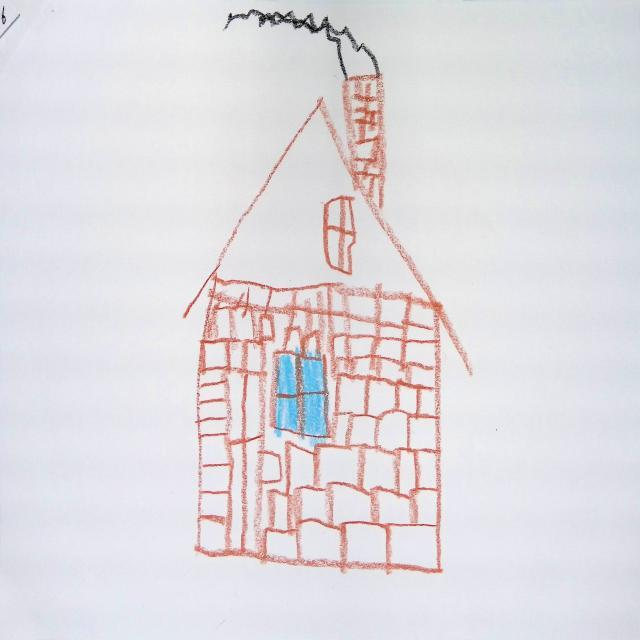chimney: (344, 73, 389, 219)
door: (222, 368, 264, 563)
house: (182, 72, 474, 574)
roof: (180, 95, 476, 375)
wall: (196, 278, 442, 574)
window: (271, 350, 335, 438), (323, 196, 357, 275)
